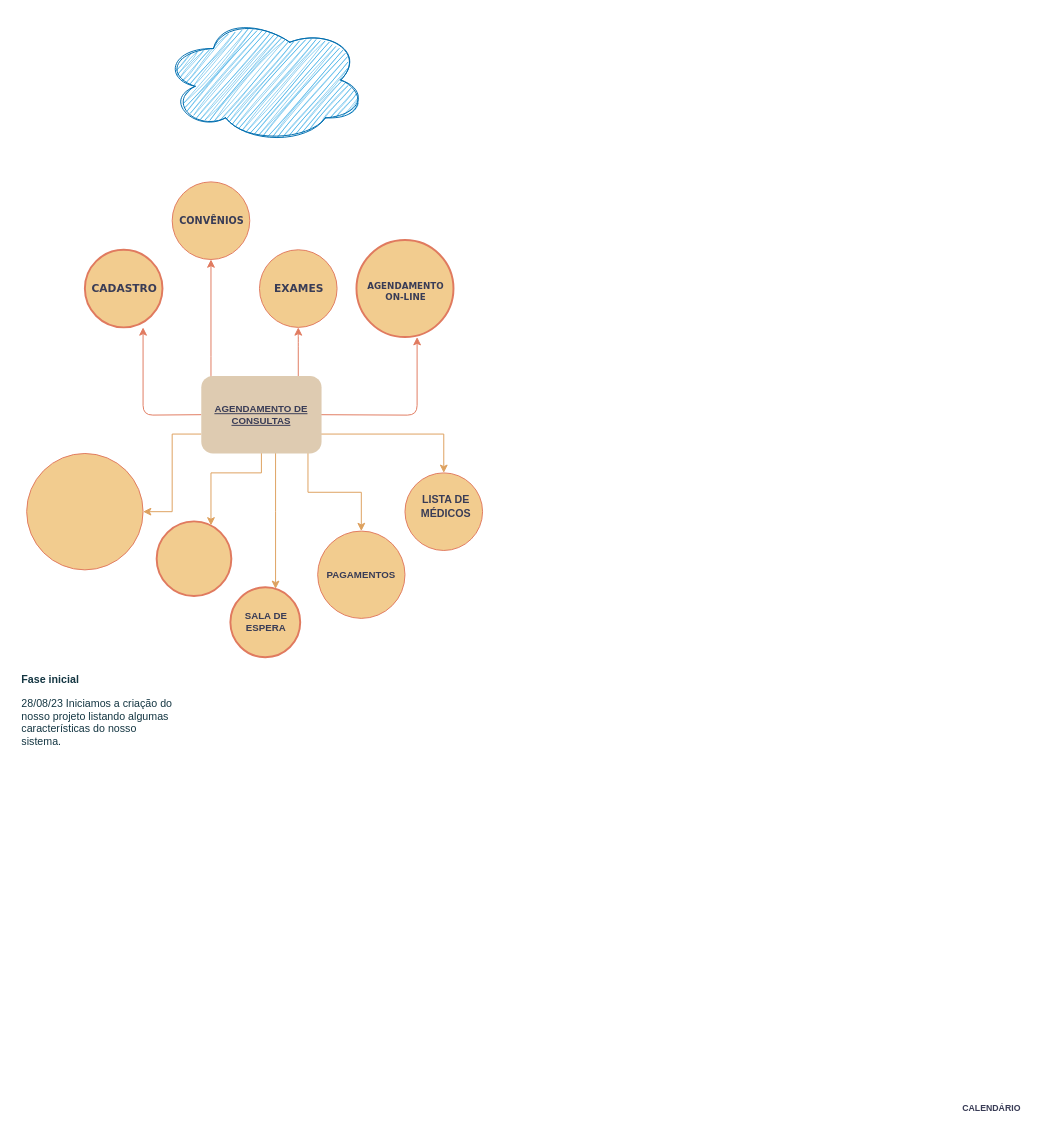
Some shapes in this 1037 by 1141 pixel diagram are drawn without their labels. Each missing label, with the centre of its shape:
BRAINSTORMING: the point at 264,79
ESPECIALIDAES: the point at 193,558
TELECONSULTAS: the point at 84,511
